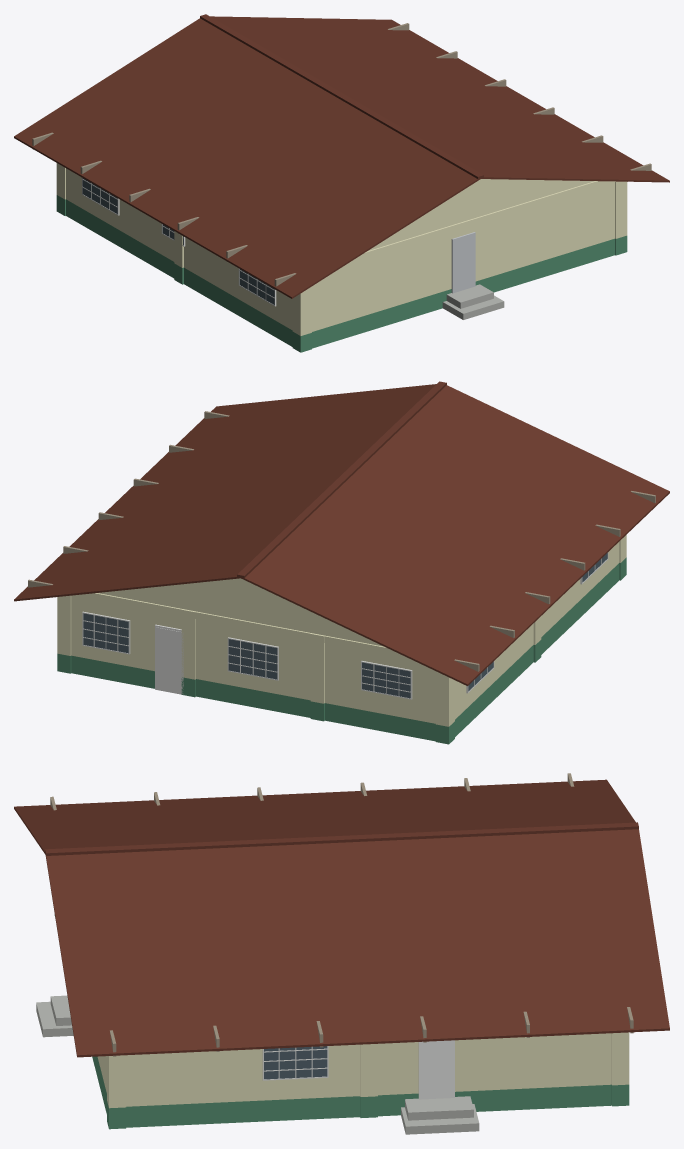
The model's file is rares_staff_house_c.glb.
3 renders of one model, top to bottom at view 1: azimuth 30°, elevation 25°; view 2: azimuth 150°, elevation 25°; view 3: azimuth 270°, elevation 25°, orthographic. The views are drawn at different scales.
Visible parts, largest first — view 1: Roof_Slope_W, Roof_Slope_E, Wall_Upper, Wall_Dado, Gable_Yellow_Walls, Roof_Ridge, Beam_Gable_S, South_Screen_Door, Pilaster_0_y, Pilaster_1_y, South_Step_1, South_Step_2 (+2 smaller); view 2: Roof_Slope_W, Roof_Slope_E, Wall_Upper, Wall_Dado, Gable_Yellow_Walls, Beam_Gable_N, Roof_Ridge, North_Door_Leaf, North_Win_C_g, North_Win_E_g, North_Win_W_g, Pilaster_4_y (+3 smaller); view 3: Roof_Slope_E, Roof_Slope_W, Wall_Upper, Wall_Dado, Roof_Ridge, East_Door, East_Win_S_g, East_Step_2, East_Step_1, Pilaster_1_y, Pilaster_3_y, Pilaster_7_y (+2 smaller).
Boxes of the visible parts, left/top/right/bottom form: Roof_Slope_W: left=14, top=18, right=480, bottom=298; Roof_Slope_E: left=210, top=16, right=669, bottom=182; Wall_Upper: left=66, top=168, right=615, bottom=331; Wall_Dado: left=66, top=199, right=615, bottom=348; Gable_Yellow_Walls: left=367, top=179, right=594, bottom=251; Roof_Ridge: left=200, top=14, right=483, bottom=178; Beam_Gable_S: left=346, top=181, right=615, bottom=264; South_Screen_Door: left=451, top=232, right=475, bottom=293; Pilaster_0_y: left=292, top=286, right=311, bottom=335; Pilaster_1_y: left=615, top=181, right=627, bottom=238; South_Step_1: left=442, top=295, right=504, bottom=319; South_Step_2: left=446, top=284, right=493, bottom=308; Roof_Slope_W: left=241, top=385, right=669, bottom=685; Roof_Slope_E: left=14, top=384, right=436, bottom=601; Wall_Upper: left=71, top=542, right=619, bottom=723; Wall_Dado: left=71, top=563, right=619, bottom=741; Gable_Yellow_Walls: left=98, top=578, right=383, bottom=646; Beam_Gable_N: left=72, top=593, right=409, bottom=658; Roof_Ridge: left=237, top=381, right=446, bottom=578; North_Door_Leaf: left=156, top=627, right=183, bottom=694; North_Win_C_g: left=228, top=639, right=277, bottom=679; North_Win_E_g: left=83, top=613, right=128, bottom=653; North_Win_W_g: left=362, top=662, right=410, bottom=698; Pilaster_4_y: left=310, top=634, right=324, bottom=703; Roof_Slope_E: left=45, top=829, right=669, bottom=1057; Roof_Slope_W: left=14, top=779, right=635, bottom=854; Wall_Upper: left=97, top=1033, right=611, bottom=1106; Wall_Dado: left=92, top=1056, right=611, bottom=1127; Roof_Ridge: left=45, top=822, right=638, bottom=855; East_Door: left=418, top=1040, right=454, bottom=1099; East_Win_S_g: left=264, top=1046, right=327, bottom=1079; East_Step_2: left=405, top=1096, right=473, bottom=1120; East_Step_1: left=401, top=1104, right=479, bottom=1134; Pilaster_1_y: left=107, top=1055, right=126, bottom=1108; Pilaster_3_y: left=611, top=1032, right=629, bottom=1085; Pilaster_7_y: left=360, top=1044, right=377, bottom=1096.
Size of the model in its own units: 16.3 by 4.75 by 16.4.
